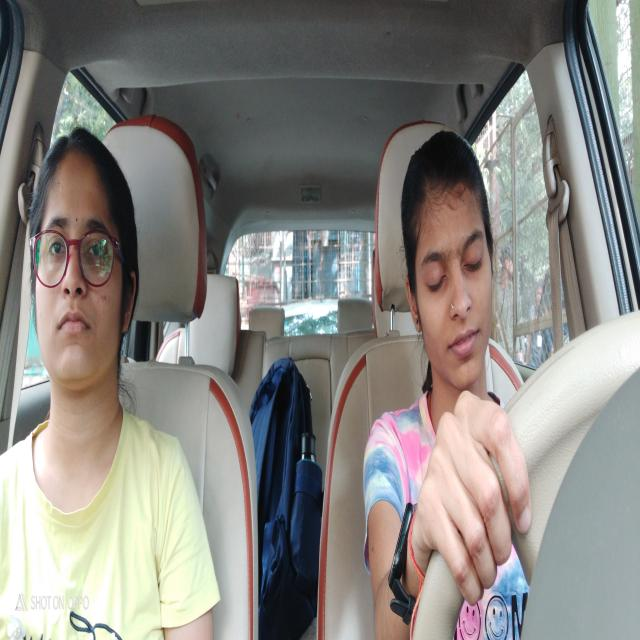drowsy: (396, 130, 504, 392)
person: (23, 113, 146, 395)
